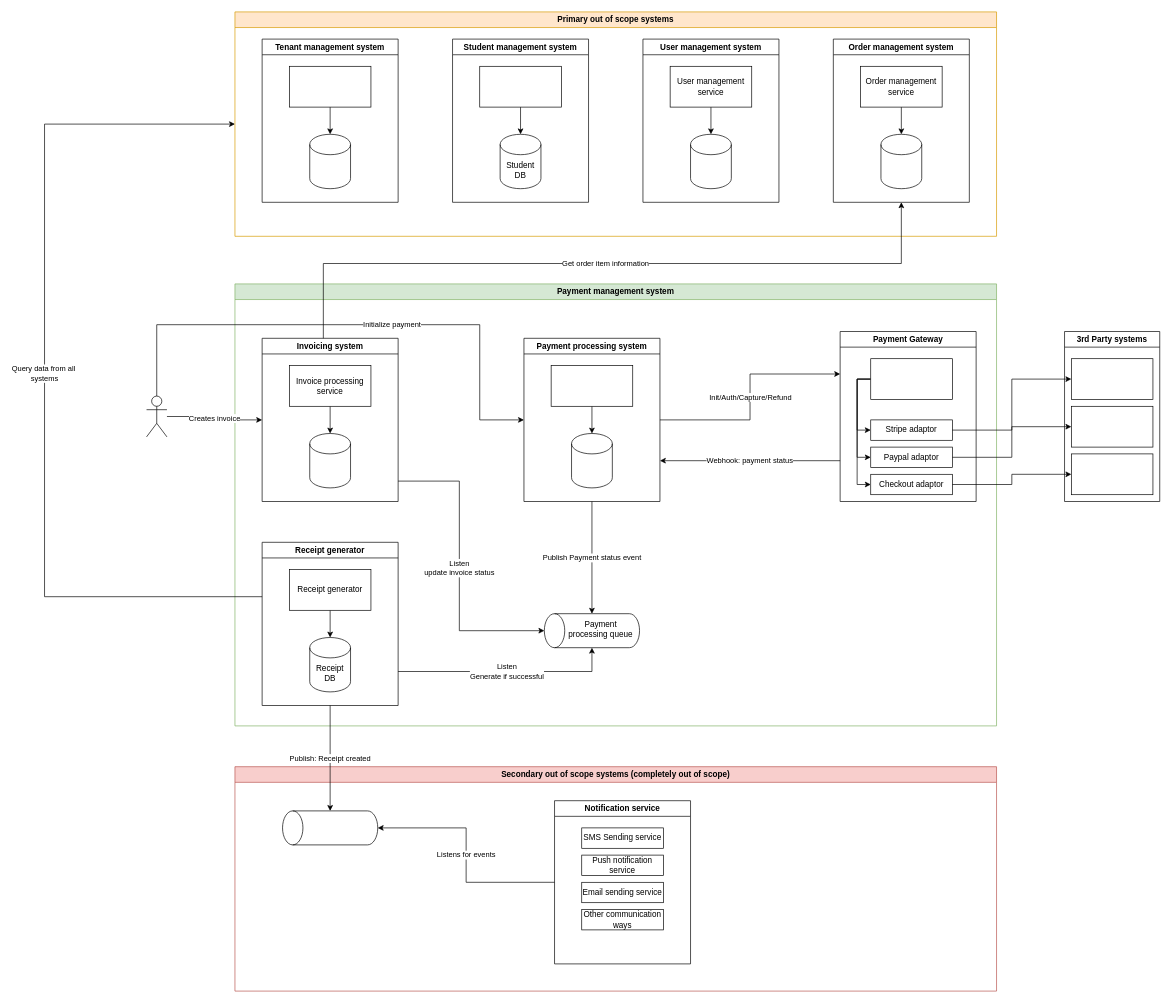
The diagram is 1172 pixels wide and 1003 high, and some of its shapes have lost their labels. Here are the shapes that lost their labels. From the top down, the centre of each, then its label:
the point at 330,86: Tenant management service
the point at 520,86: Student management service
the point at 330,161: Tenant DB
the point at 710,161: User DB
the point at 901,161: Order DB
the point at 591,385: Payment processing service
the point at 911,379: Adapter factory
the point at 1112,379: Stripe
the point at 156,416: User
the point at 1112,426: Paypal
the point at 330,460: Invoice DB
the point at 591,460: Payment DB
the point at 1112,474: Checkout
the point at 330,827: Notification queue
